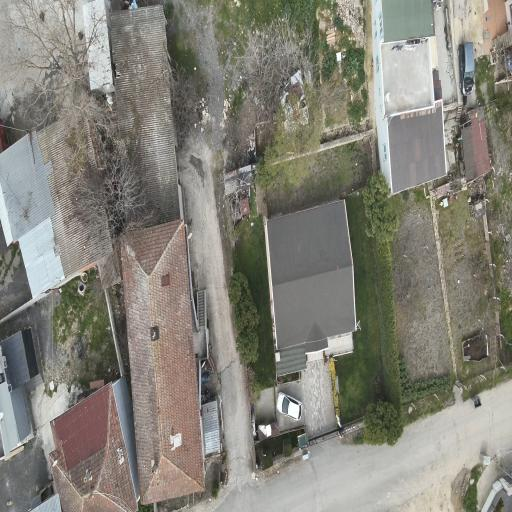car: (458, 43, 474, 96), (277, 393, 302, 420)
